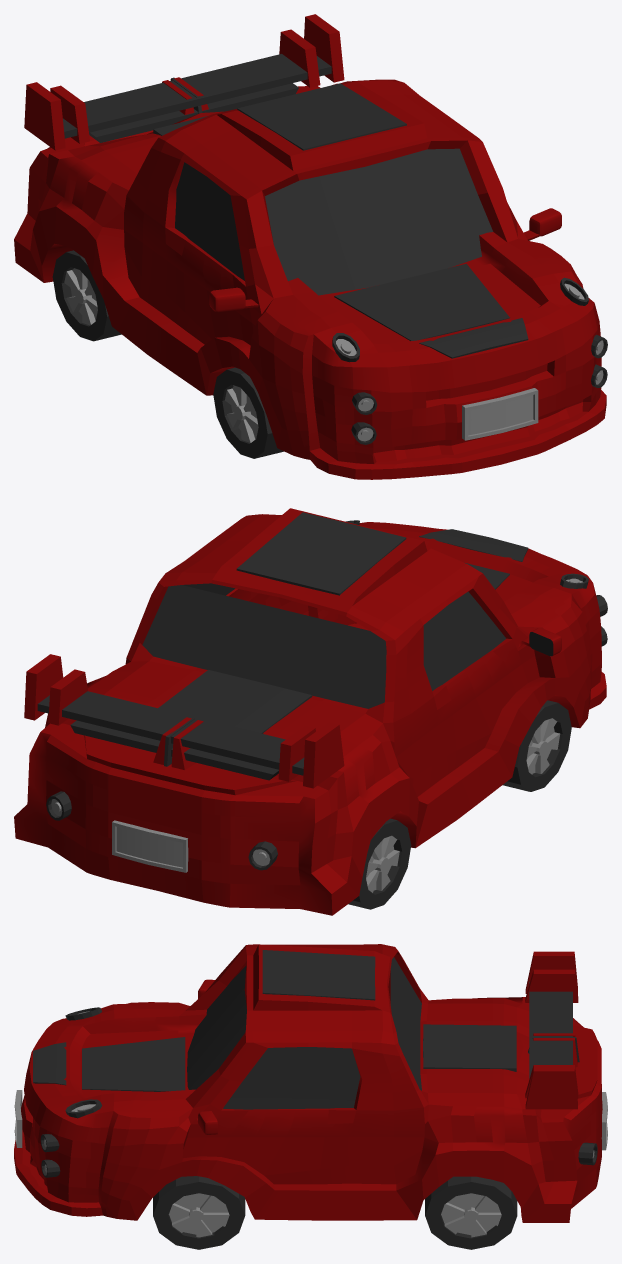
The model's file is player_car.fbx.
3 views of the same model, one above another, from view 1: azimuth 30°, elevation 25°; view 2: azimuth 150°, elevation 25°; view 3: azimuth 270°, elevation 25° (orthographic). The views are drawn at different scales.
Parts seen in each view (by area): view 1: car_base, glass_front, pCube7, pCube1, pCube9, pPipe5 (×2), glass_right, pCube2, front_plate, pCube3, pCube6, H (+5 smaller); view 2: car_base, glass_behind, pCube9, pCube1, pCube10, glass_right, pPipe5 (×2), pCube2, back_plate, pCube6, pCube3, pCylinder12 (×2) (+4 smaller); view 3: car_base, pPipe5 (×2), glass_right, pCube7, pCube9, pCube10, glass_front, pCylinder12 (×2), pCube1, pCube2, glass_behind, pCube3 (+4 smaller).
Boxes of the visible parts, x1=… form: car_base: x1=14, y1=79, x2=606, y2=479; glass_front: x1=265, y1=148, x2=493, y2=295; pCube7: x1=334, y1=263, x2=509, y2=340; pCube1: x1=63, y1=54, x2=331, y2=138; pCube9: x1=237, y1=83, x2=406, y2=150; pPipe5 (×2): x1=52, y1=250, x2=283, y2=458; glass_right: x1=175, y1=162, x2=244, y2=280; pCube2: x1=24, y1=14, x2=344, y2=150; front_plate: x1=462, y1=388, x2=538, y2=440; pCube3: x1=50, y1=29, x2=320, y2=143; pCube6: x1=89, y1=83, x2=298, y2=142; H: x1=419, y1=318, x2=528, y2=358; car_base: x1=14, y1=508, x2=606, y2=915; glass_behind: x1=142, y1=585, x2=386, y2=708; pCube9: x1=236, y1=512, x2=406, y2=595; pCube1: x1=37, y1=691, x2=304, y2=775; pCube10: x1=158, y1=670, x2=312, y2=733; glass_right: x1=183, y1=583, x2=506, y2=690; pPipe5 (×2): x1=348, y1=700, x2=571, y2=909; pCube2: x1=24, y1=654, x2=344, y2=788; back_plate: x1=112, y1=820, x2=188, y2=872; pCube6: x1=70, y1=720, x2=278, y2=780; pCube3: x1=48, y1=669, x2=315, y2=781; pCylinder12 (×2): x1=366, y1=718, x2=560, y2=892; car_base: x1=14, y1=944, x2=602, y2=1222; pPipe5 (×2): x1=153, y1=1176, x2=517, y2=1249; glass_right: x1=223, y1=1047, x2=360, y2=1109; pCube7: x1=82, y1=1037, x2=185, y2=1091; pCube9: x1=262, y1=950, x2=375, y2=1000; pCube10: x1=423, y1=1024, x2=516, y2=1071; glass_front: x1=187, y1=966, x2=246, y2=1089; pCylinder12 (×2): x1=168, y1=1193, x2=501, y2=1237; pCube1: x1=529, y1=981, x2=572, y2=1078; pCube2: x1=525, y1=951, x2=577, y2=1109; glass_behind: x1=390, y1=957, x2=421, y2=1090; pCube3: x1=525, y1=969, x2=578, y2=1098.
Size of the model in its own units: 157 by 109 by 273.
